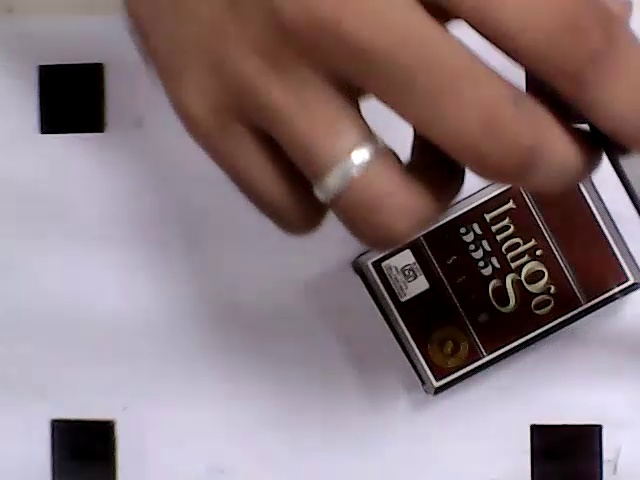BEX: (370, 154, 634, 385)
